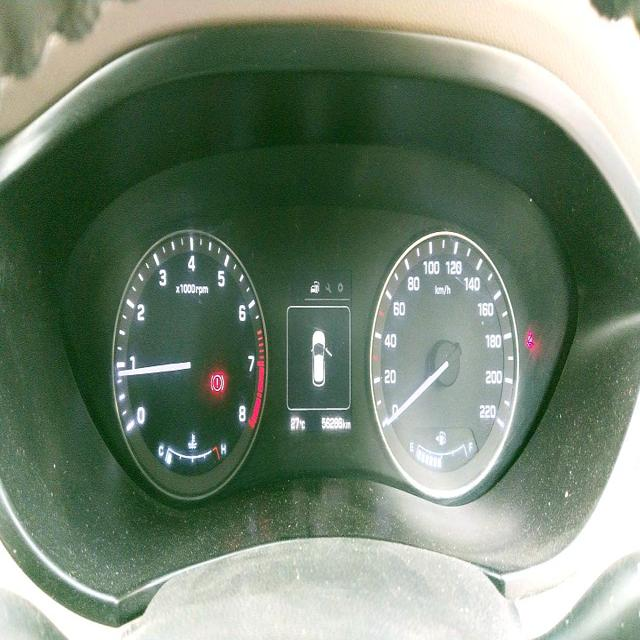odometer: (320, 416, 342, 432)
